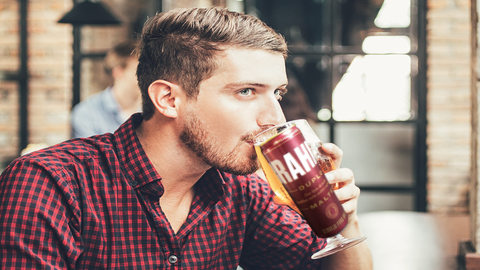duplo_malte: (256, 121, 349, 238)
